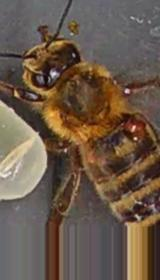varroa_mite: (122, 115, 146, 135)
